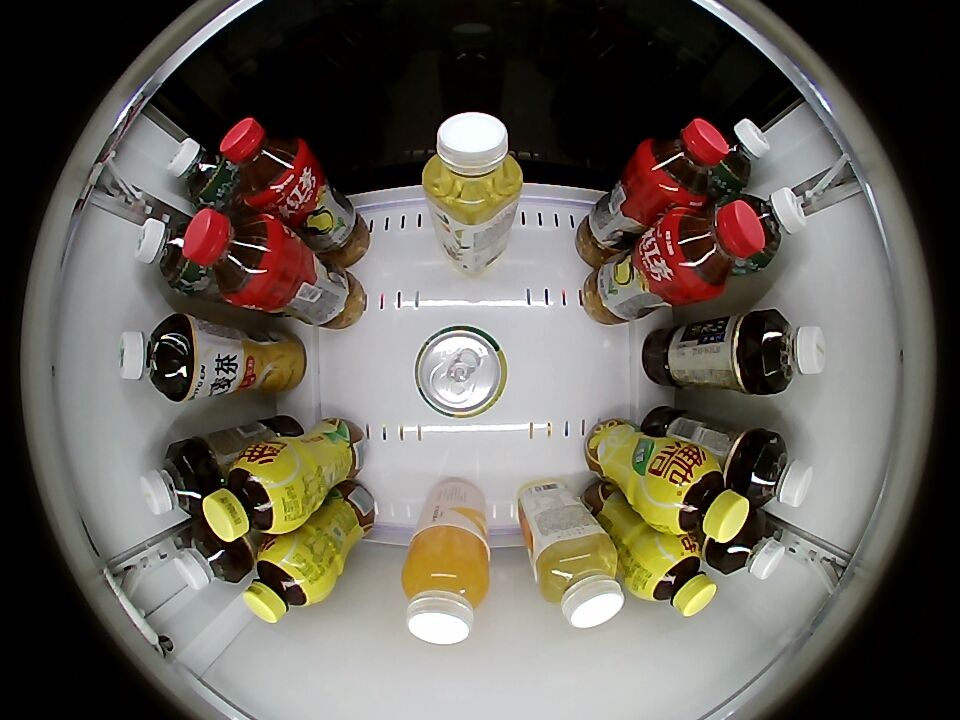binghongcha: (661, 199, 766, 302), (181, 208, 284, 307), (219, 116, 310, 208), (636, 118, 729, 206)
chapai2: (423, 112, 523, 217), (532, 533, 625, 629)
damaicha: (117, 313, 196, 402)
moliqingcha: (735, 187, 807, 265), (135, 215, 201, 293), (168, 137, 234, 207), (711, 119, 770, 191)
weic: (401, 526, 491, 644)
weitaningmeng-bottle: (652, 449, 751, 545), (202, 448, 300, 543), (243, 540, 327, 624), (631, 537, 717, 618)
wulongcha: (749, 310, 827, 395), (140, 442, 211, 517), (744, 434, 813, 508), (712, 513, 786, 580), (172, 525, 245, 591)
xuebi2: (414, 326, 509, 418)
